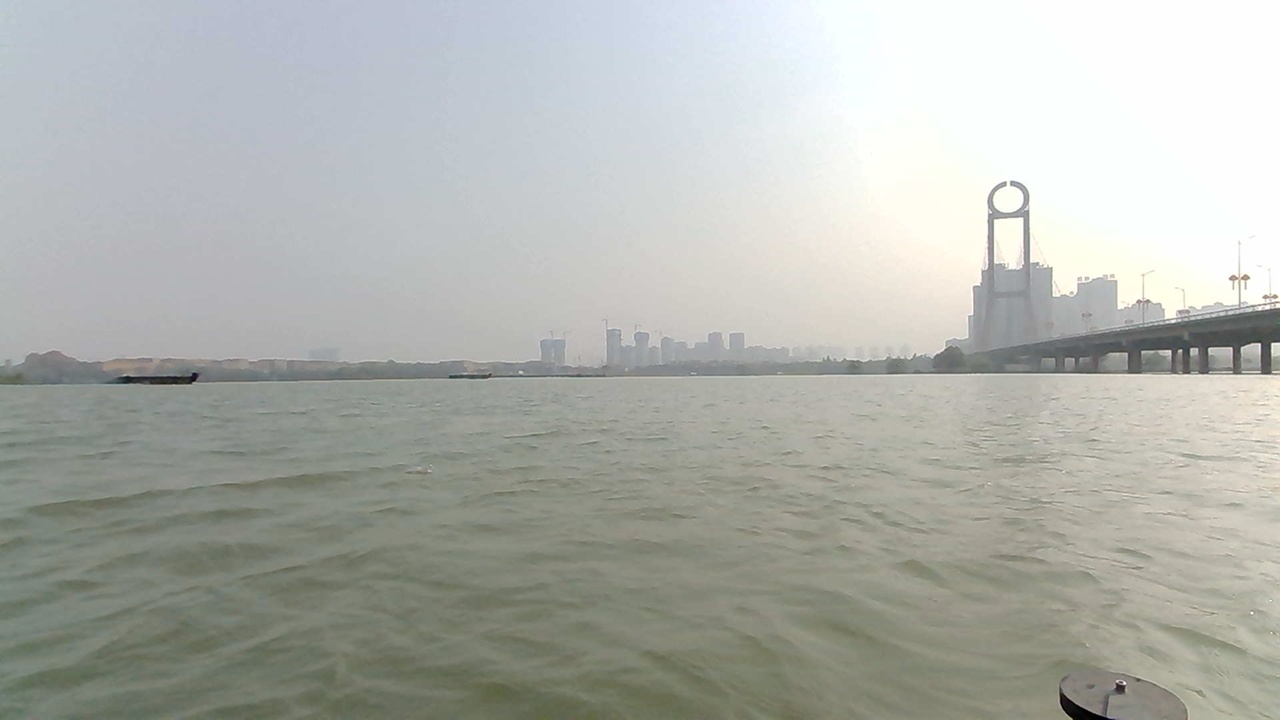bottle: (385, 442, 459, 494)
